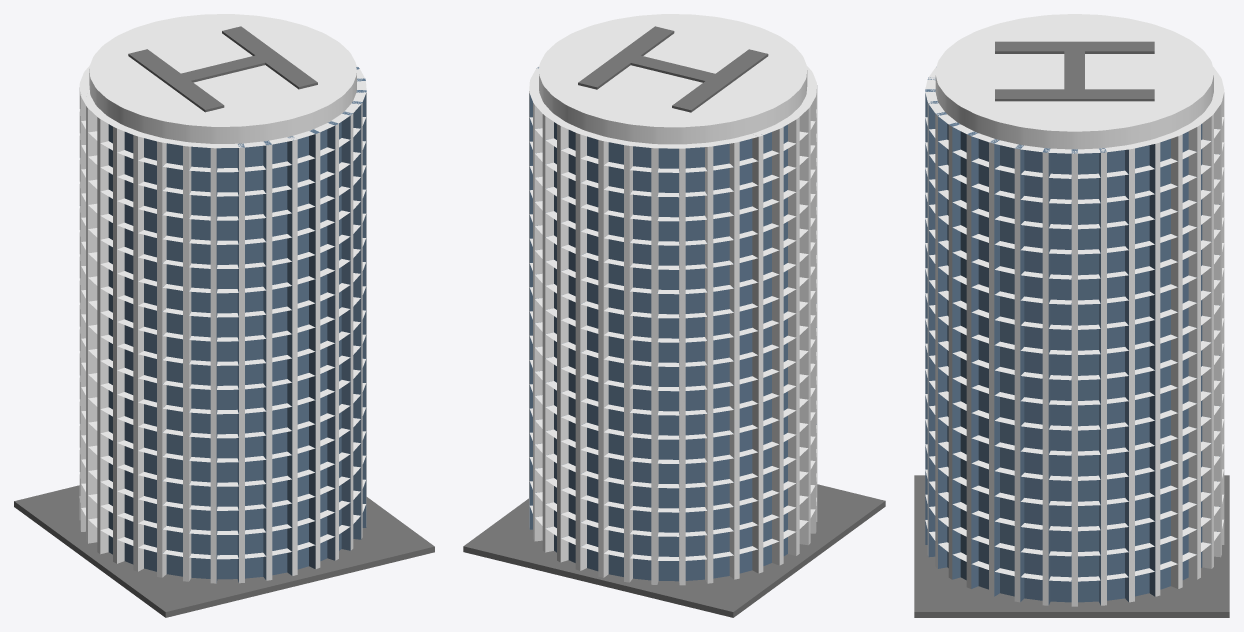
The model's file is CorpBuilding.fbx.
3 views of the same model, side by side, from view 1: azimuth 30°, elevation 25°; view 2: azimuth 150°, elevation 25°; view 3: azimuth 270°, elevation 25° (orthographic). The views are drawn at different scales.
Parts seen in each view (by area): view 1: Cylinder.016, Plane.049, Text.002; view 2: Cylinder.016, Plane.049, Text.002; view 3: Cylinder.016, Plane.049, Text.002.
Boxes of the visible parts, x1,y1,x2,y2 form: Cylinder.016: (79, 14, 366, 583); Plane.049: (14, 485, 434, 617); Text.002: (128, 26, 317, 112); Cylinder.016: (529, 14, 817, 585); Plane.049: (463, 484, 885, 617); Text.002: (578, 26, 768, 112); Cylinder.016: (925, 14, 1224, 606); Plane.049: (914, 475, 1229, 617); Text.002: (995, 41, 1154, 101).
Bounding box in the file's own units: 0.695 × 1.14 × 0.6782.
